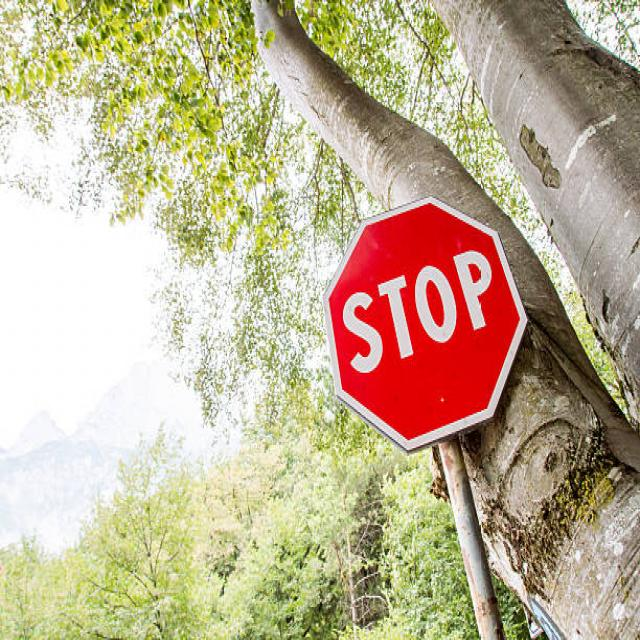stop: (320, 189, 527, 456)
